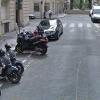Motorcycle: (7, 25, 52, 60)
